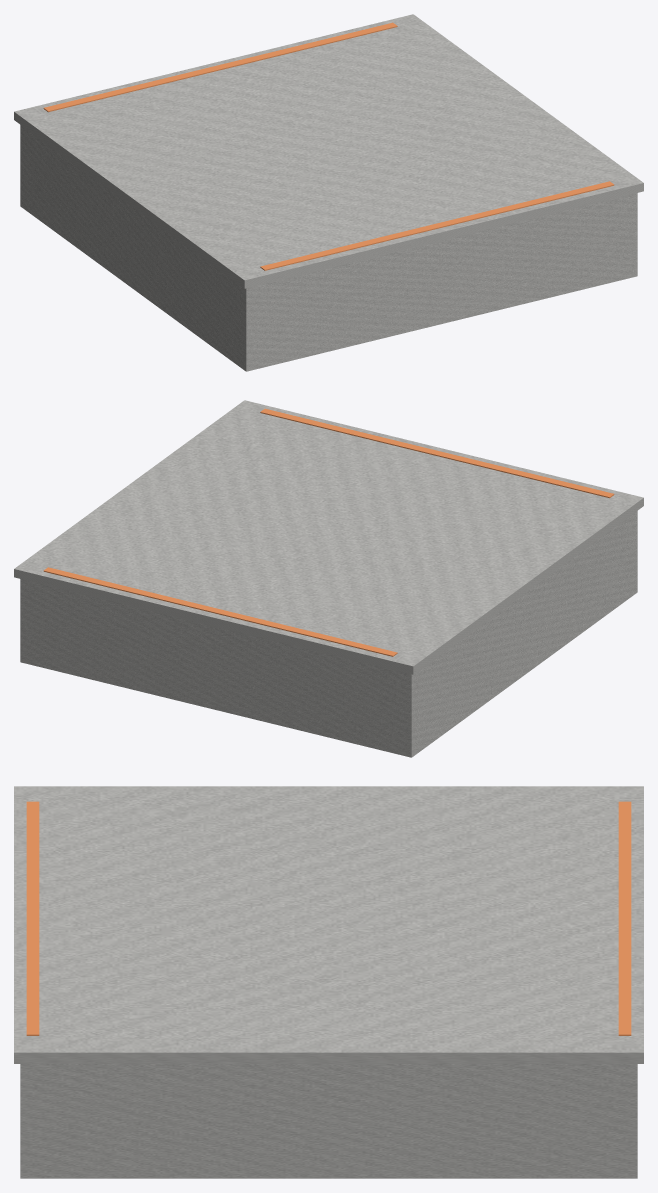
The model's file is skate-park-and-street-sports-raised-pad-block-4c1565a8__33511.glb.
3 views of the same model, one above another, from view 1: azimuth 30°, elevation 25°; view 2: azimuth 150°, elevation 25°; view 3: azimuth 270°, elevation 25° (orthographic). The views are drawn at different scales.
Visible parts, largest first — view 1: raised-pad-block-concrete, raised-pad-block-sunset; view 2: raised-pad-block-concrete, raised-pad-block-sunset; view 3: raised-pad-block-concrete, raised-pad-block-sunset.
Part boxes in pixels (<box>): raised-pad-block-concrete: <box>14,14,643,371</box>; raised-pad-block-sunset: <box>43,22,614,270</box>; raised-pad-block-concrete: <box>14,400,643,757</box>; raised-pad-block-sunset: <box>43,408,614,656</box>; raised-pad-block-concrete: <box>14,786,643,1178</box>; raised-pad-block-sunset: <box>26,801,631,1035</box>.
Size of the model in its own units: 4 by 0.9099 by 4.
2 materials, 1 textured.
